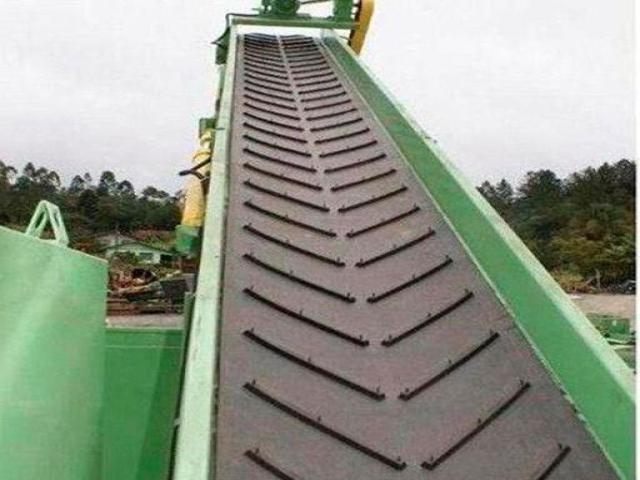conveyor: (165, 10, 635, 479)
